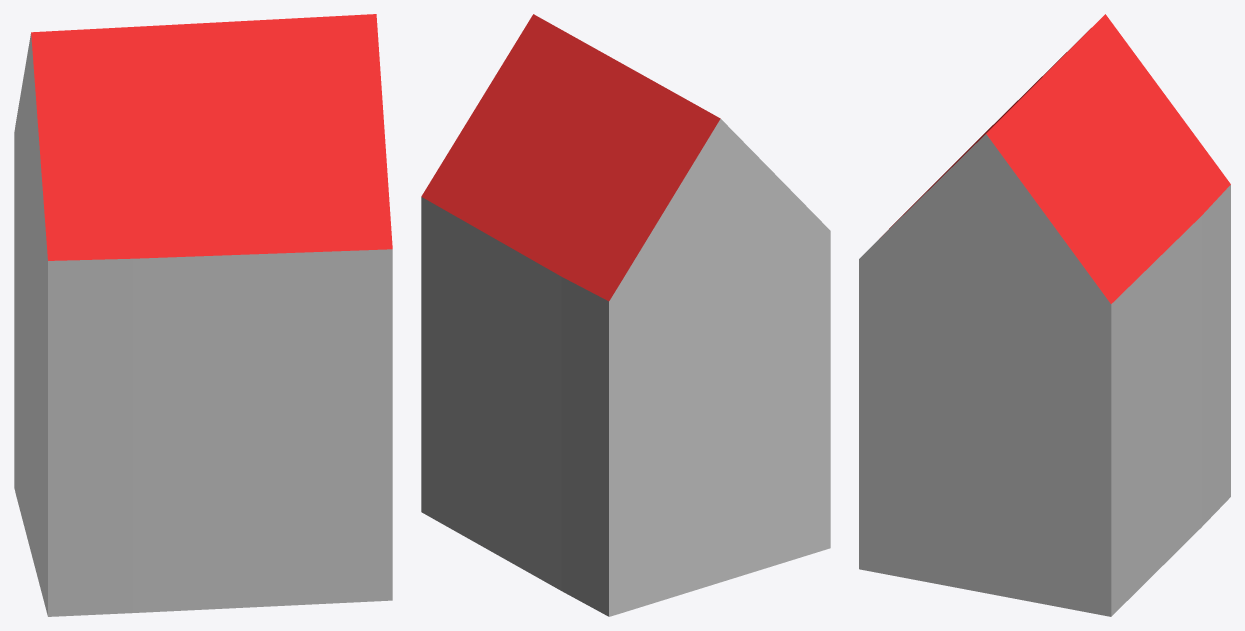
File: DEBY_LOD2_4907139.dae
The picture shows the model from 3 angles, left to right: view 1: azimuth 30°, elevation 25°; view 2: azimuth 150°, elevation 25°; view 3: azimuth 270°, elevation 25°; orthographic projection. The views are drawn at different scales.
Bounding box in the file's own units: 16.89 × 15.96 × 21.76.
